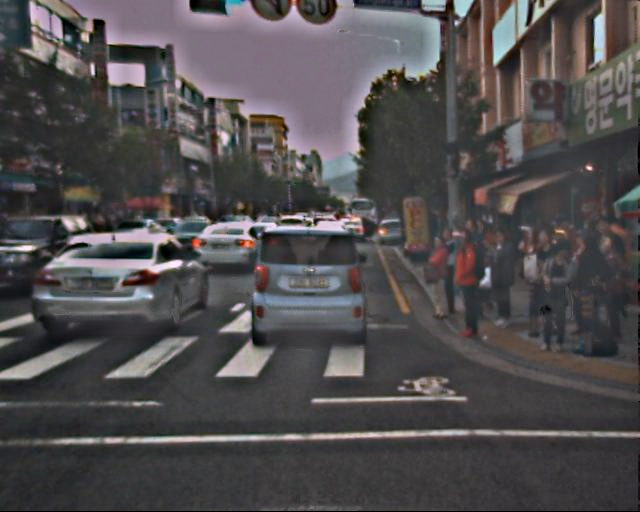person: (533, 242, 577, 350), (564, 229, 606, 332), (592, 236, 634, 339), (447, 235, 489, 337), (598, 217, 638, 315), (454, 218, 493, 312), (483, 231, 521, 323), (523, 227, 561, 319), (422, 235, 456, 318), (431, 227, 464, 308)
